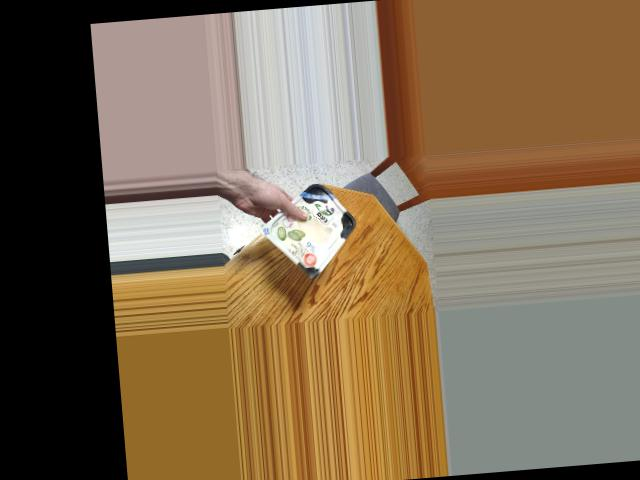cheese: (286, 186, 347, 271)
